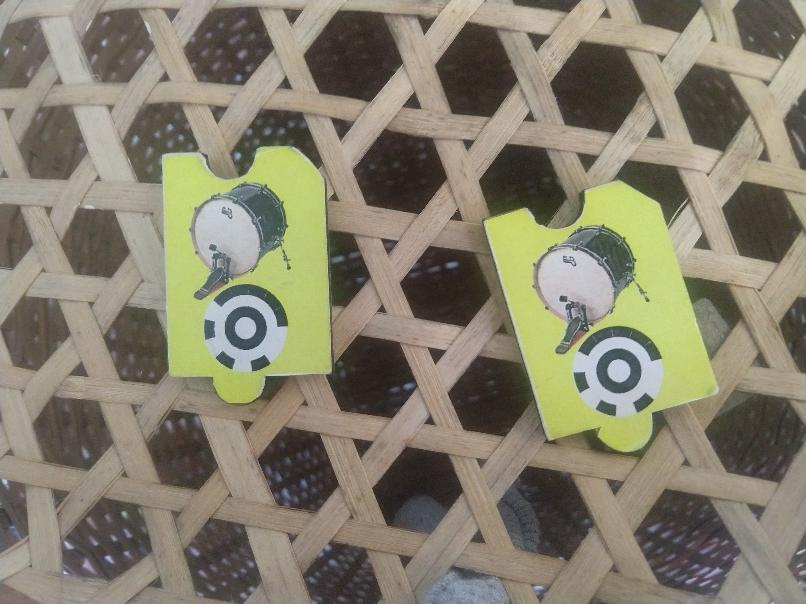bumbo: (481, 175, 723, 457), (160, 142, 334, 401)
